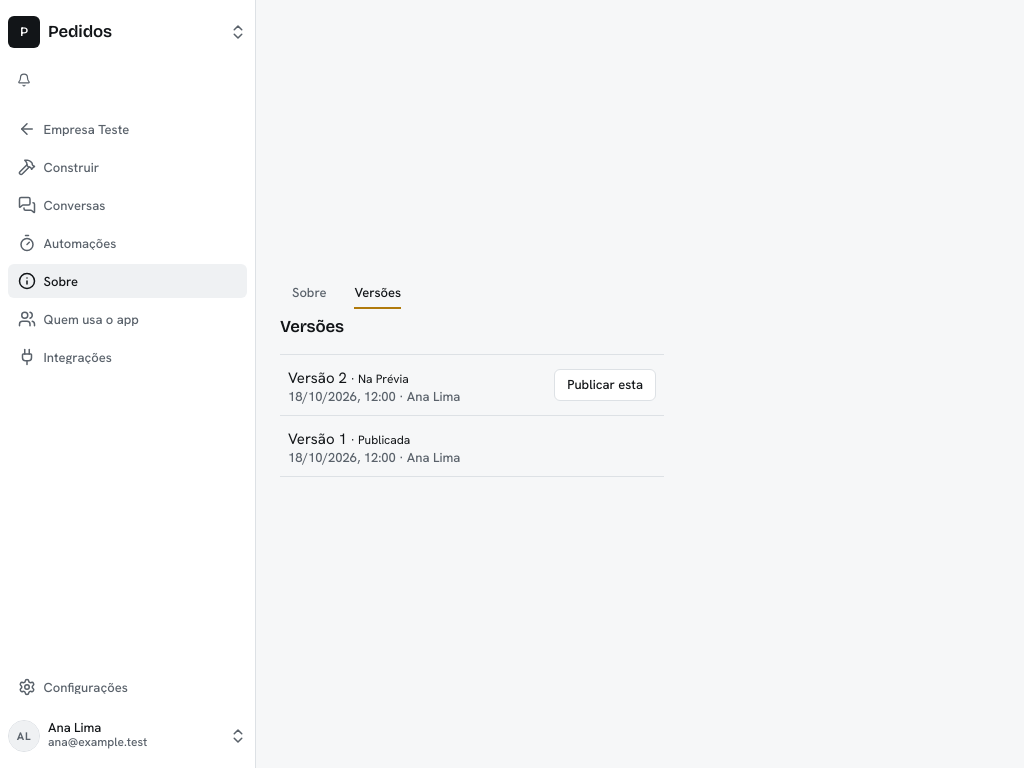
reabrir o diálogo apaga a frase da falha de antes
The width and height of the screenshot is (1024, 768).
(page scrolled)
Check: the heading "Versões" is shown, box x1=280 y1=316 x2=344 y2=337
Check: the text "Versão 2 · Na Prévia" is shown, box x1=288 y1=368 x2=409 y2=388
Click the button "Publicar esta" at (605, 385), box x1=554 y1=369 x2=656 y2=401
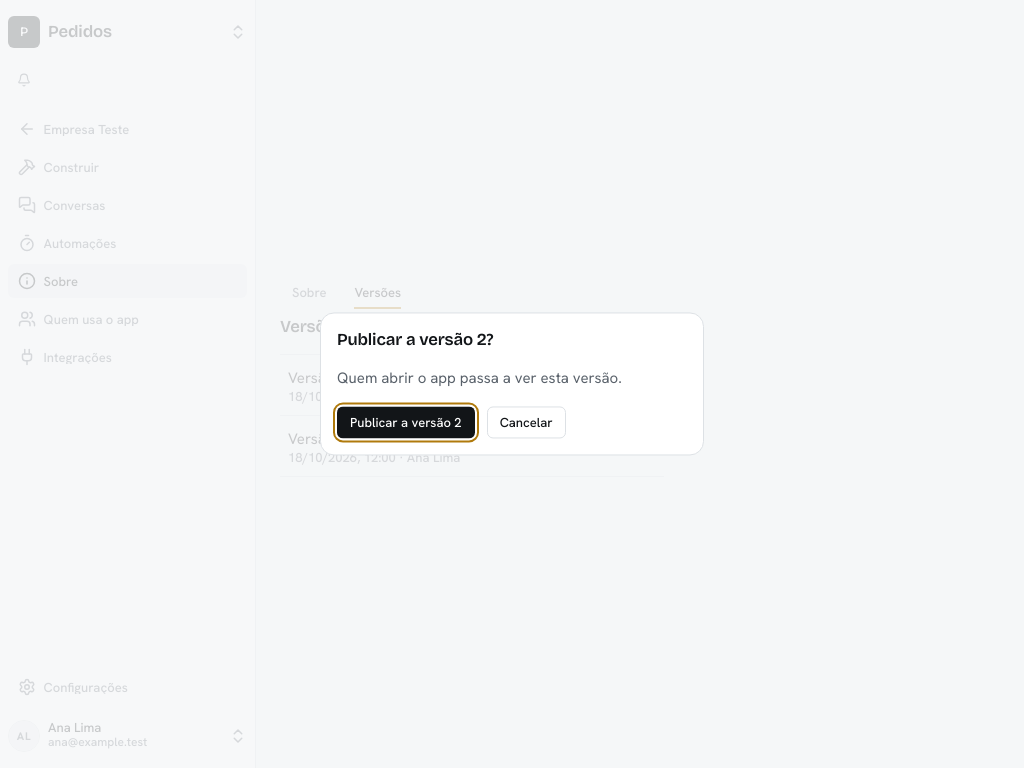
Check: the dialog is shown, box x1=320 y1=312 x2=704 y2=456
Click the button "Publicar a versão 2" at (406, 422), box x1=337 y1=406 x2=475 y2=438
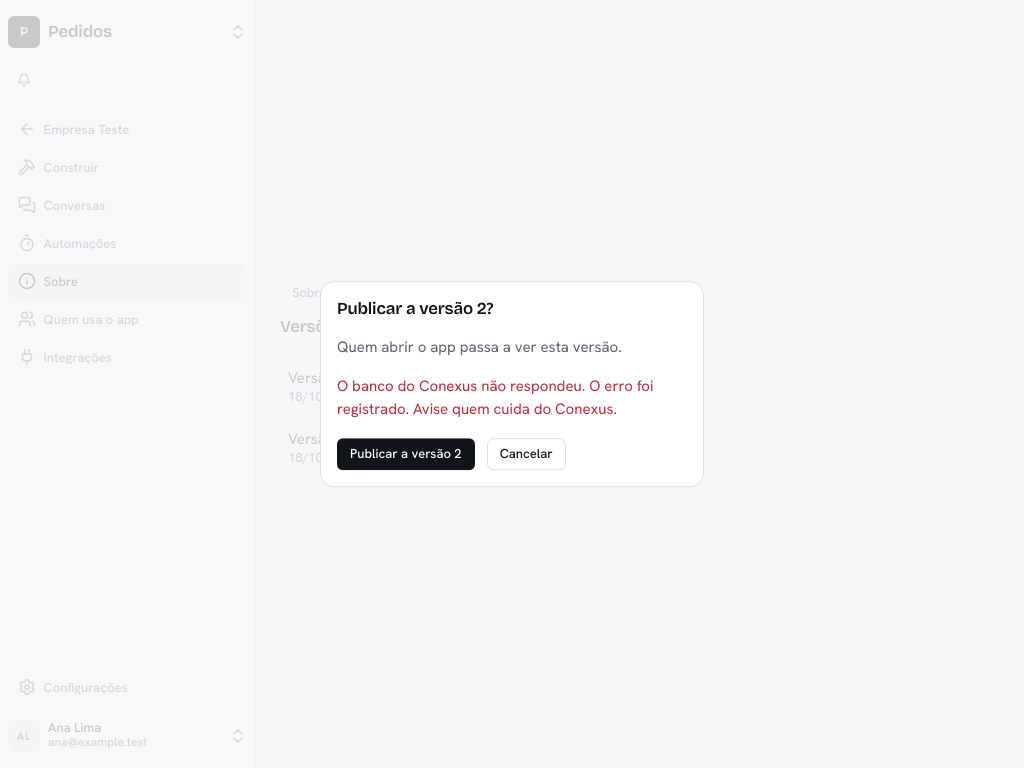
Check: the message is shown, box x1=337 y1=375 x2=687 y2=422
Click the button "Cancelar" at (526, 454), box x1=487 y1=438 x2=566 y2=470
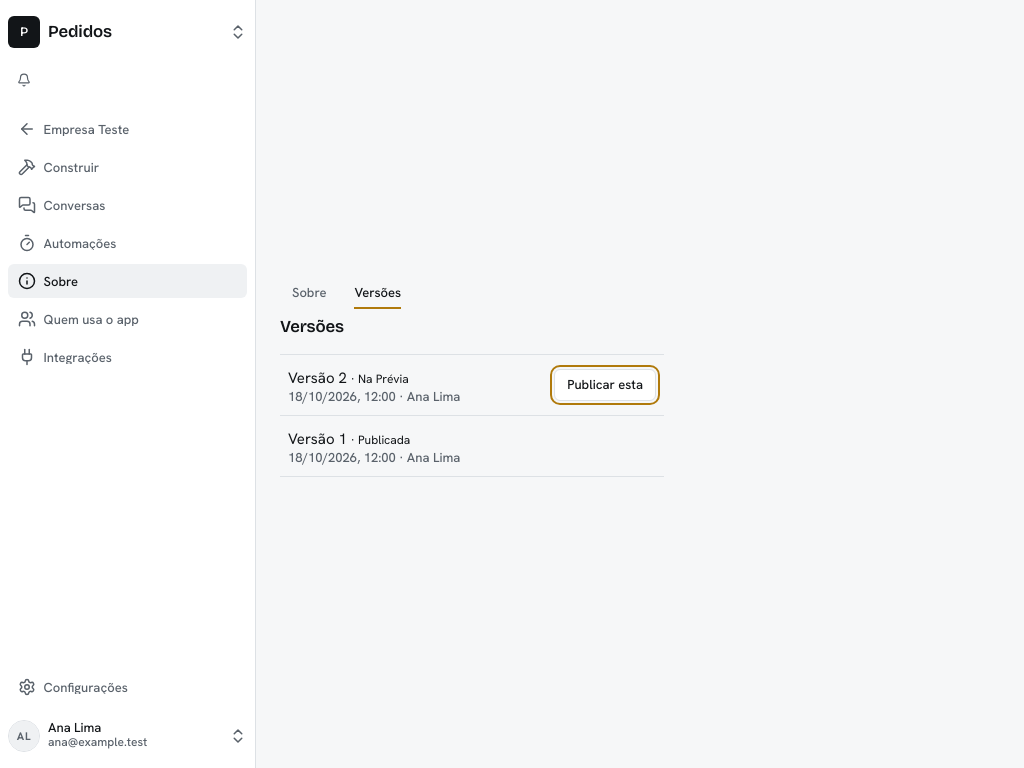
Check: the dialog is gone
Click the button "Publicar esta" at (605, 385), box x1=554 y1=369 x2=656 y2=401
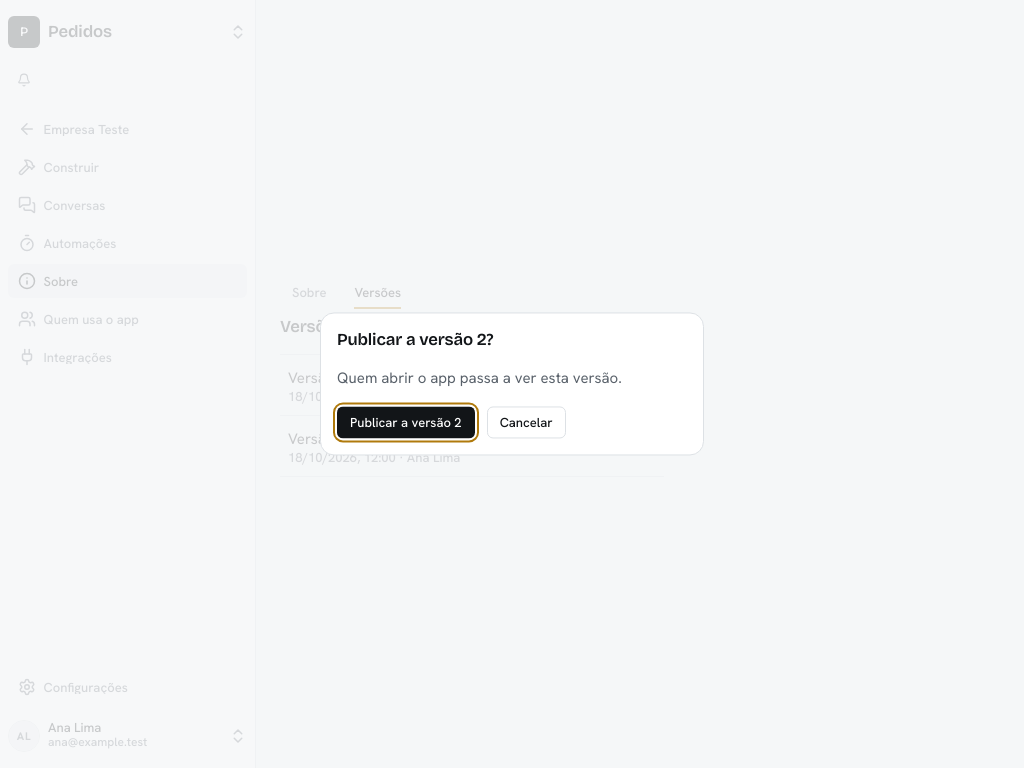
Check: the dialog is shown, box x1=320 y1=312 x2=704 y2=456
